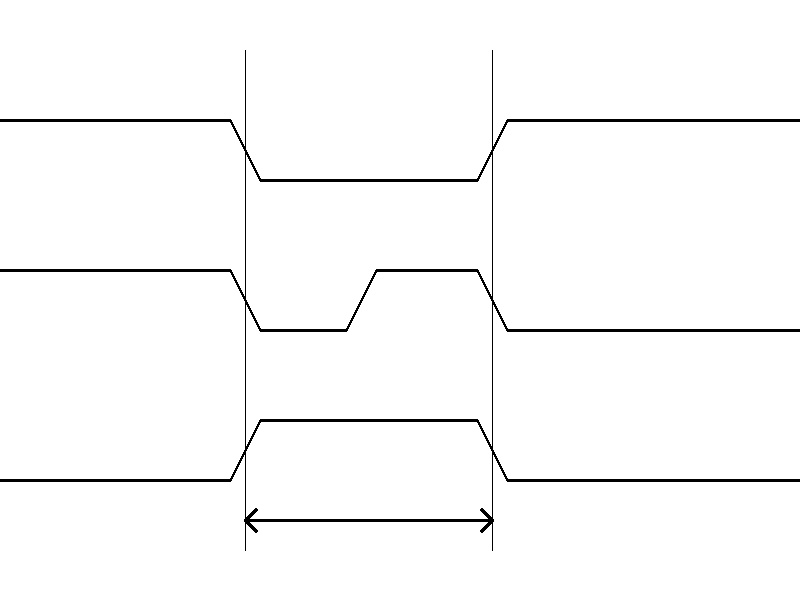double_arrow: (245, 505, 492, 535)
